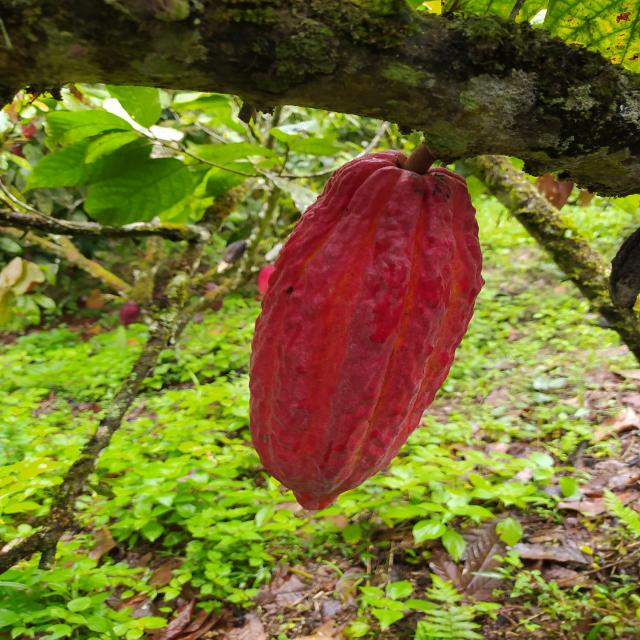Sana: (249, 148, 484, 511)
